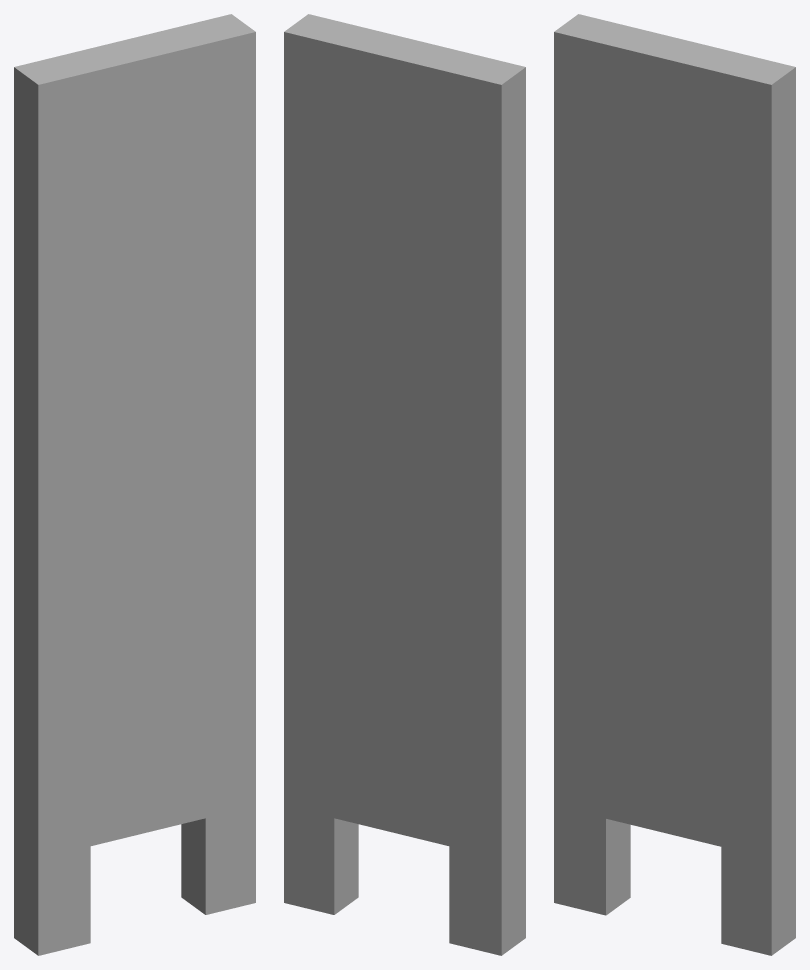
File: EnteranceWall.fbx
The picture shows the model from 3 angles, left to right: view 1: azimuth 30°, elevation 25°; view 2: azimuth 150°, elevation 25°; view 3: azimuth 330°, elevation 25°; orthographic projection.
Visible parts, largest first — view 1: WallElement_Enterance; view 2: WallElement_Enterance; view 3: WallElement_Enterance.
Boxes of the visible parts, x1,y1,x2,y2 form: WallElement_Enterance: [14, 14, 255, 955]; WallElement_Enterance: [284, 14, 525, 955]; WallElement_Enterance: [554, 14, 795, 955].
Size of the model in its own units: 5.11 by 19.57 by 0.9963.
